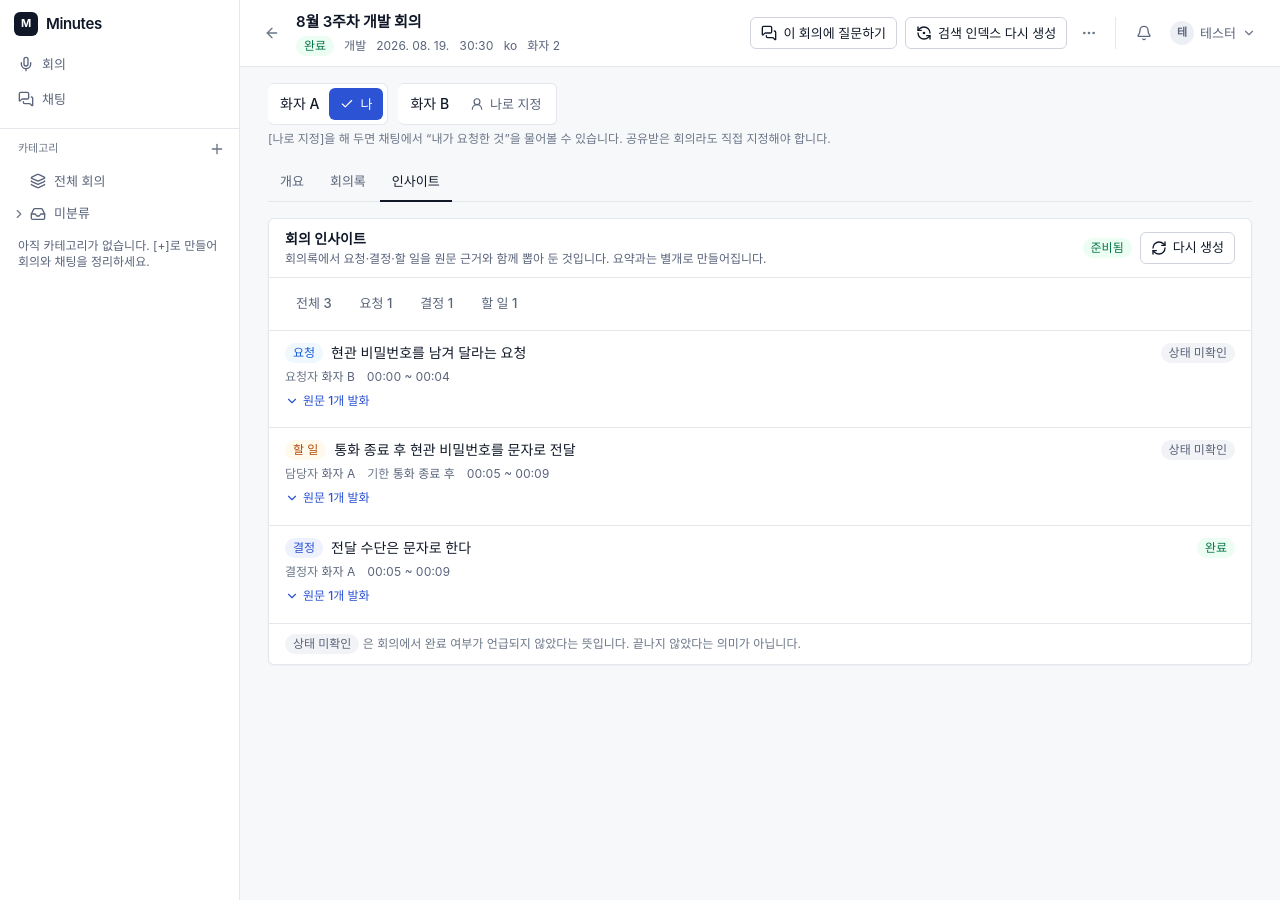
Scenario: 회의 인사이트 › 근거 원문은 접혀 있고 펼치면 그 발화가 보인다
The width and height of the screenshot is (1280, 900).
Click the button "원문 1개 발화" below "통화 종료 후 현관 비밀번호를 문자로 전달". click: (327, 498)
box: [285,490,370,506]
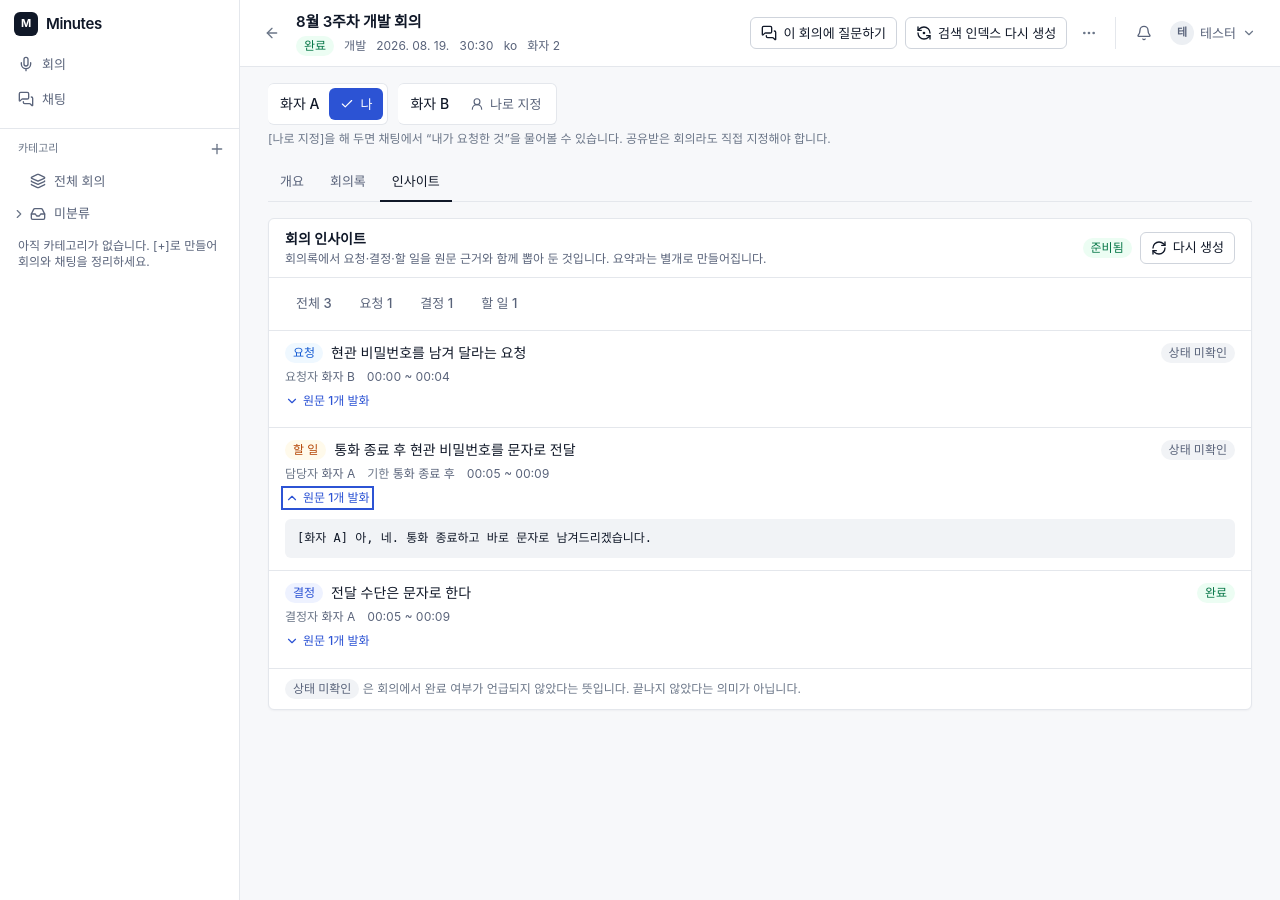
Check: the text "[화자 A] 아, 네. 통화 종료하고 바로 문자로 남겨드리겠습니다." is shown, box [285,519,1235,558]
